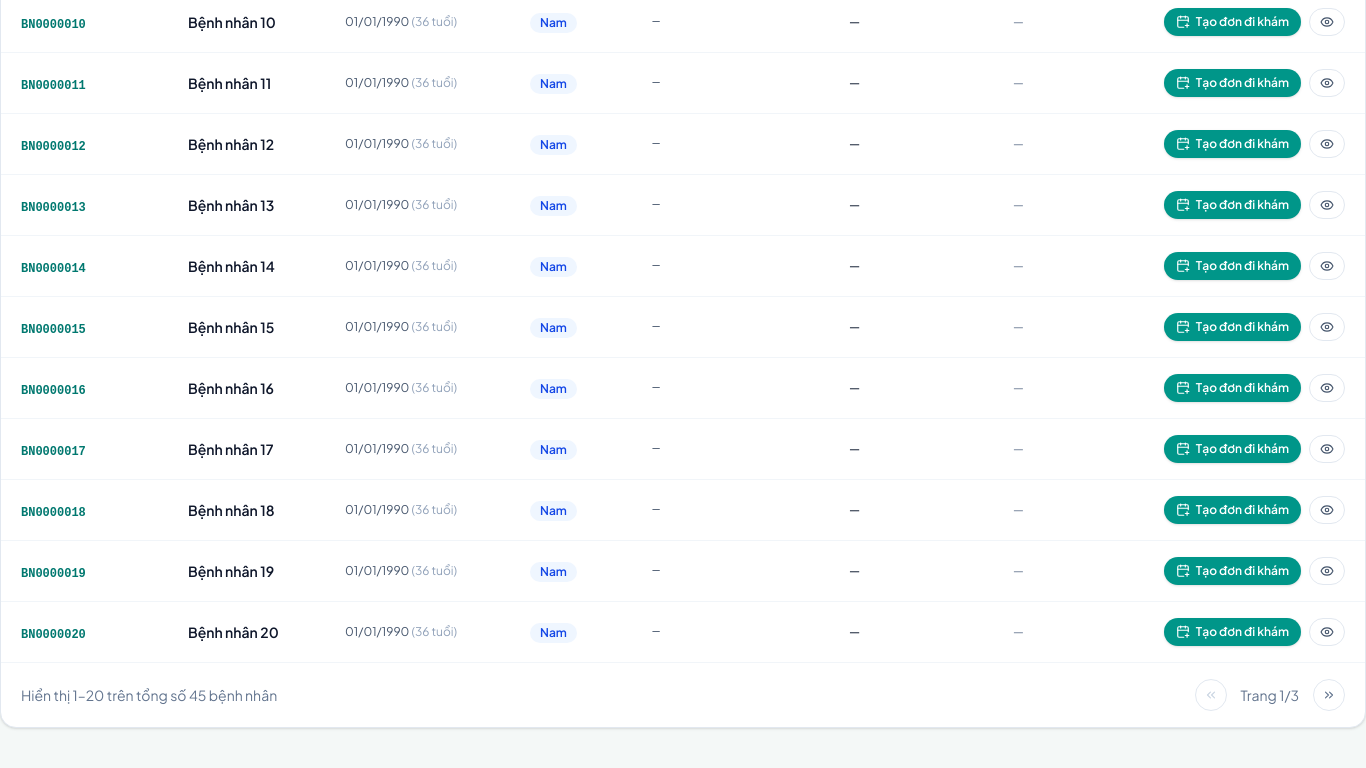
Test: ReceptionistOverviewPage › lists the patients 20 per page and loads the next page from the server
The width and height of the screenshot is (1366, 768).
(page scrolled)
Expected: the text "Bệnh nhân 20" is shown, [168, 602, 325, 662]
Expected: the text "Hiển thị 1–20 trên tổng số 45 bệnh nhân" is shown, [21, 685, 277, 705]
Click the button named "Trang sau" at (1329, 695), box [1313, 679, 1345, 711]
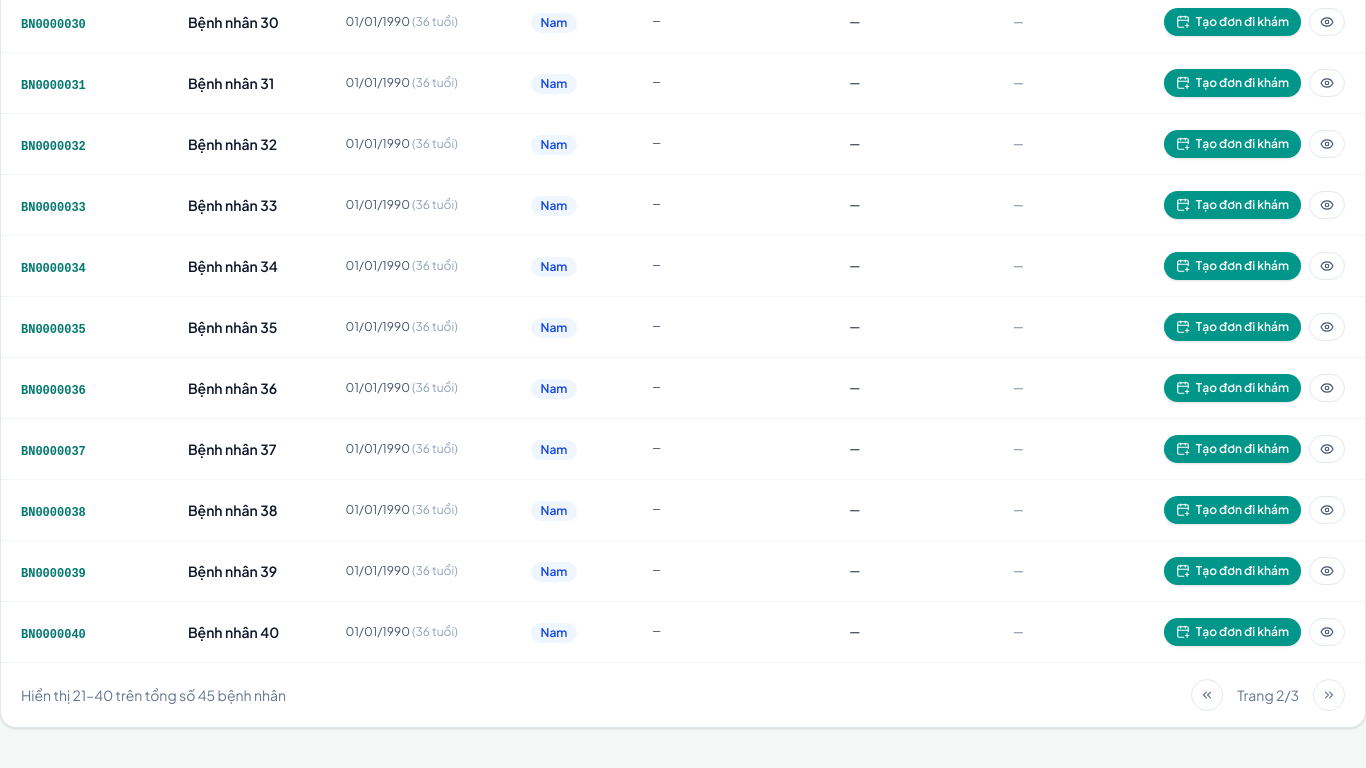
Expected: the text "Trang 2/3" is shown, [1237, 686, 1299, 704]
